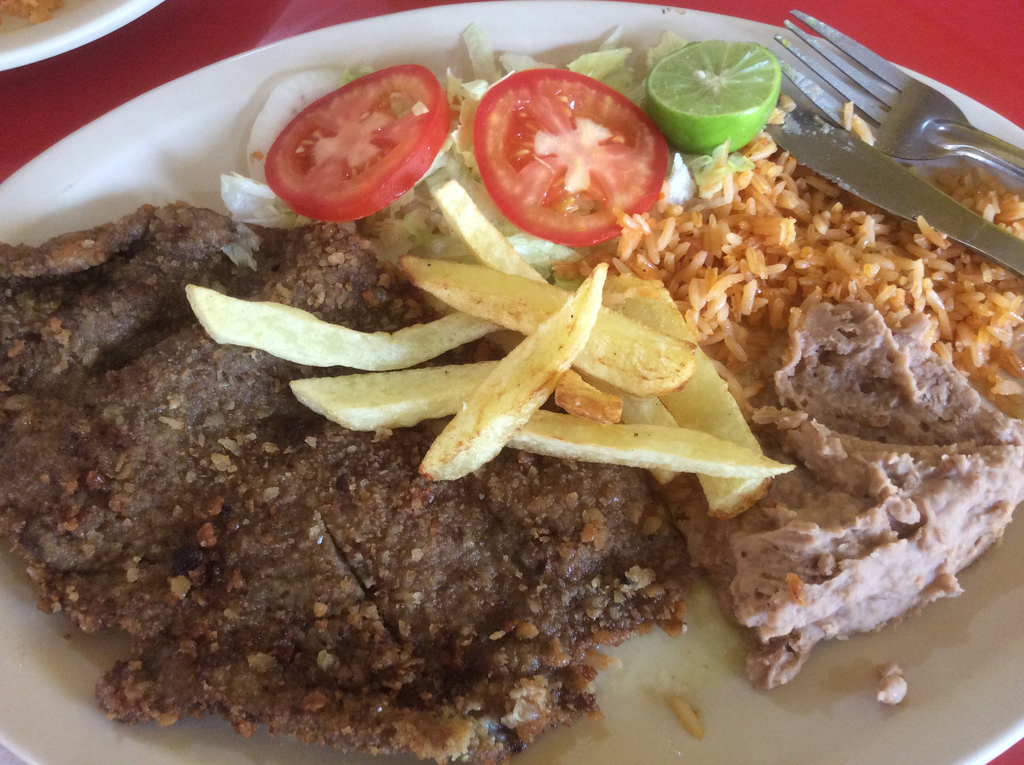French fries: (176, 170, 796, 530)
